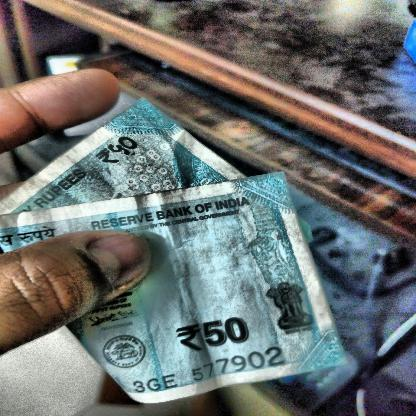Rs50: (167, 308, 268, 366)
